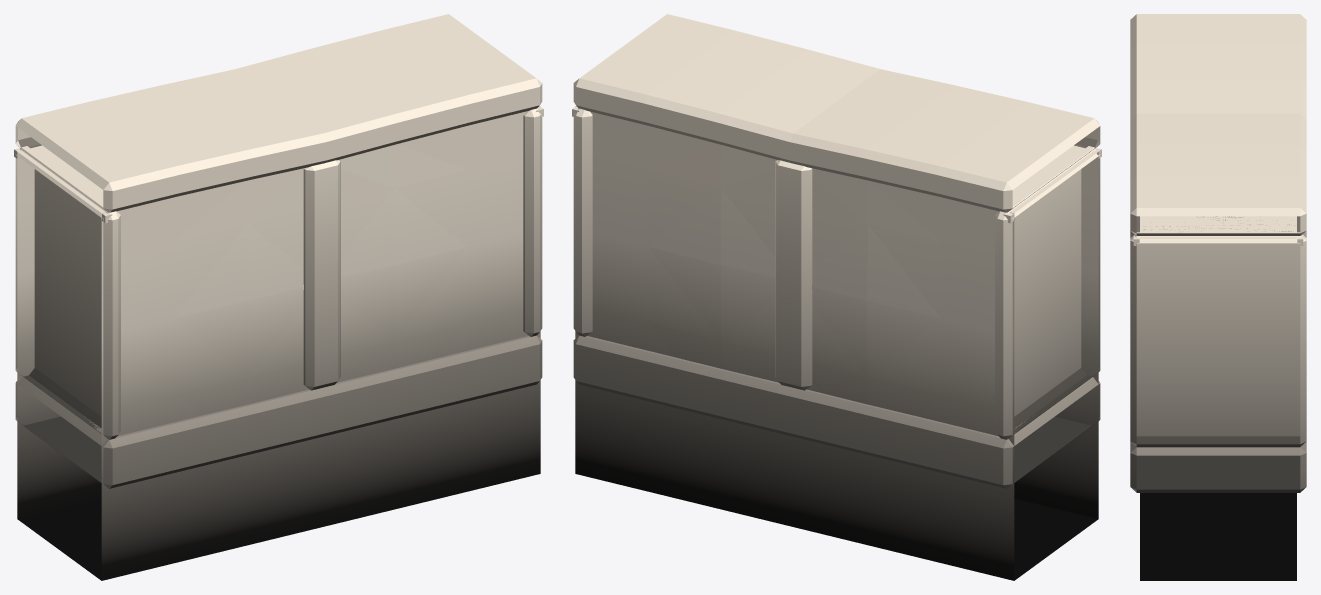
The model's file is SM_VKI_Wall_Timber_Plain_150A_Cut.fbx.
The picture shows the model from 3 angles, left to right: view 1: azimuth 30°, elevation 25°; view 2: azimuth 150°, elevation 25°; view 3: azimuth 270°, elevation 25°; orthographic projection. The views are drawn at different scales.
Visible parts, largest first — view 1: SM_VKI_Wall_Timber_Plain_150A_Cut.001; view 2: SM_VKI_Wall_Timber_Plain_150A_Cut.001; view 3: SM_VKI_Wall_Timber_Plain_150A_Cut.001.
Part boxes in pixels (left/top/right/bottom): SM_VKI_Wall_Timber_Plain_150A_Cut.001: left=14, top=14, right=543, bottom=580; SM_VKI_Wall_Timber_Plain_150A_Cut.001: left=572, top=14, right=1101, bottom=580; SM_VKI_Wall_Timber_Plain_150A_Cut.001: left=1130, top=14, right=1306, bottom=580.
Size of the model in its own units: 1.5 by 1.3 by 0.56.
